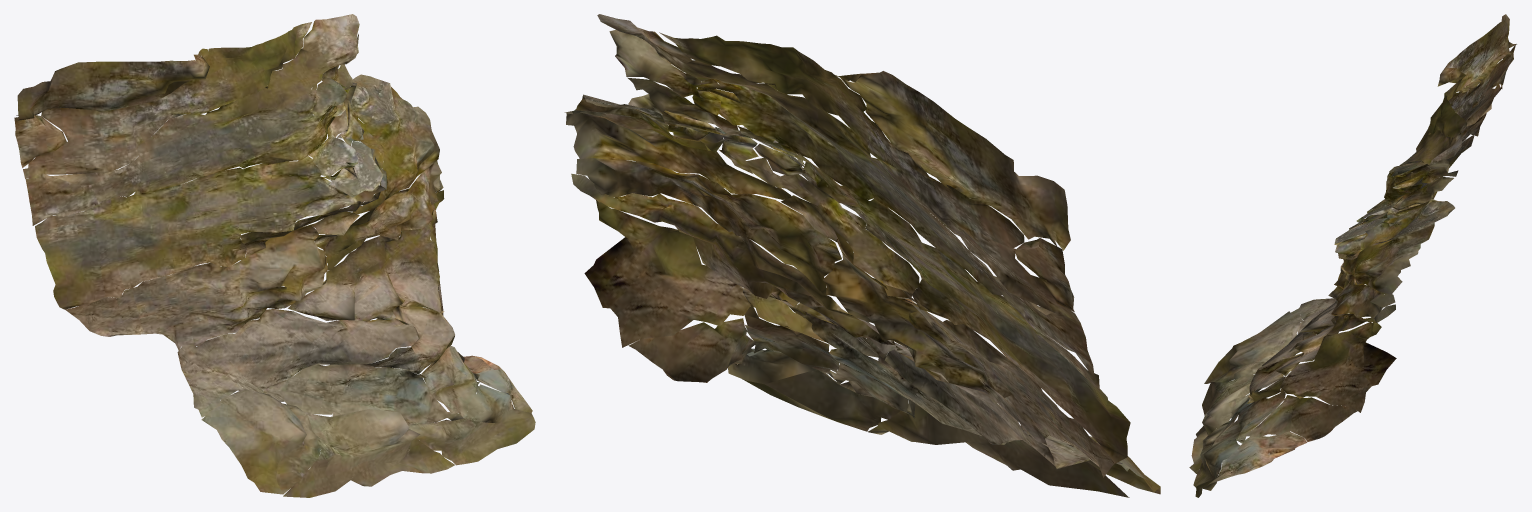
File: rock_face_02.glb
3 views of the same model, side by side, from view 1: azimuth 30°, elevation 25°; view 2: azimuth 150°, elevation 25°; view 3: azimuth 270°, elevation 25° (orthographic). The views are drawn at different scales.
Parts seen in each view (by area): view 1: rock_face_02; view 2: rock_face_02; view 3: rock_face_02.
Part boxes in pixels (x1=…): rock_face_02: x1=14, y1=14, x2=535, y2=497; rock_face_02: x1=564, y1=14, x2=1160, y2=497; rock_face_02: x1=1189, y1=14, x2=1516, y2=497.
Bounding box in the file's own units: 2.71 × 2.48 × 2.14.
1 material, 1 textured.
